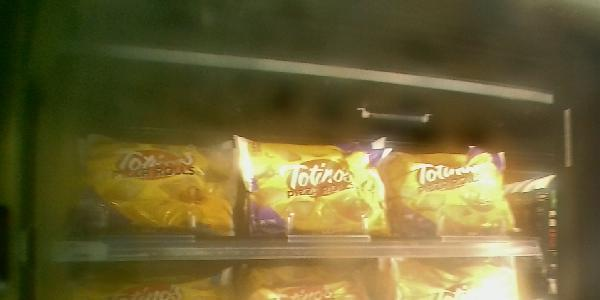icecream: (56, 135, 239, 237), (237, 128, 393, 238), (392, 146, 527, 242)
